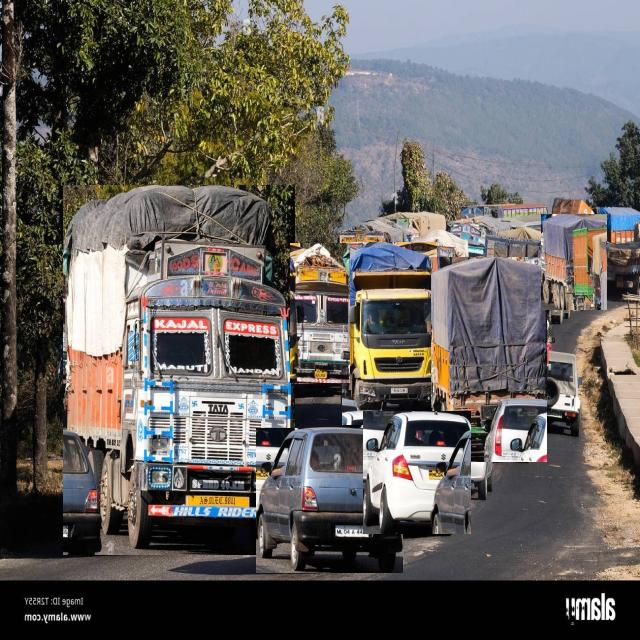car: (256, 428, 402, 573), (363, 411, 470, 534), (421, 398, 492, 500)
truck: (63, 185, 294, 555), (431, 257, 546, 462), (342, 243, 436, 425), (290, 243, 350, 383), (541, 214, 606, 310)
